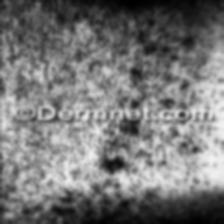Toxin: (122, 0, 208, 106), (98, 120, 224, 168), (50, 163, 96, 216)
